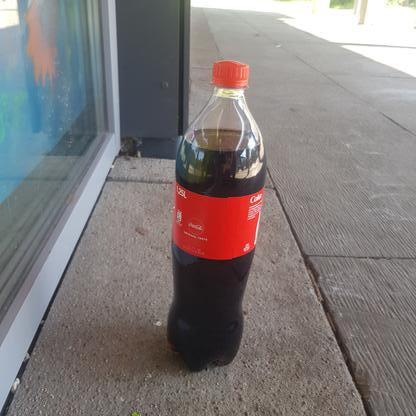coca-cola: (164, 56, 270, 374)
